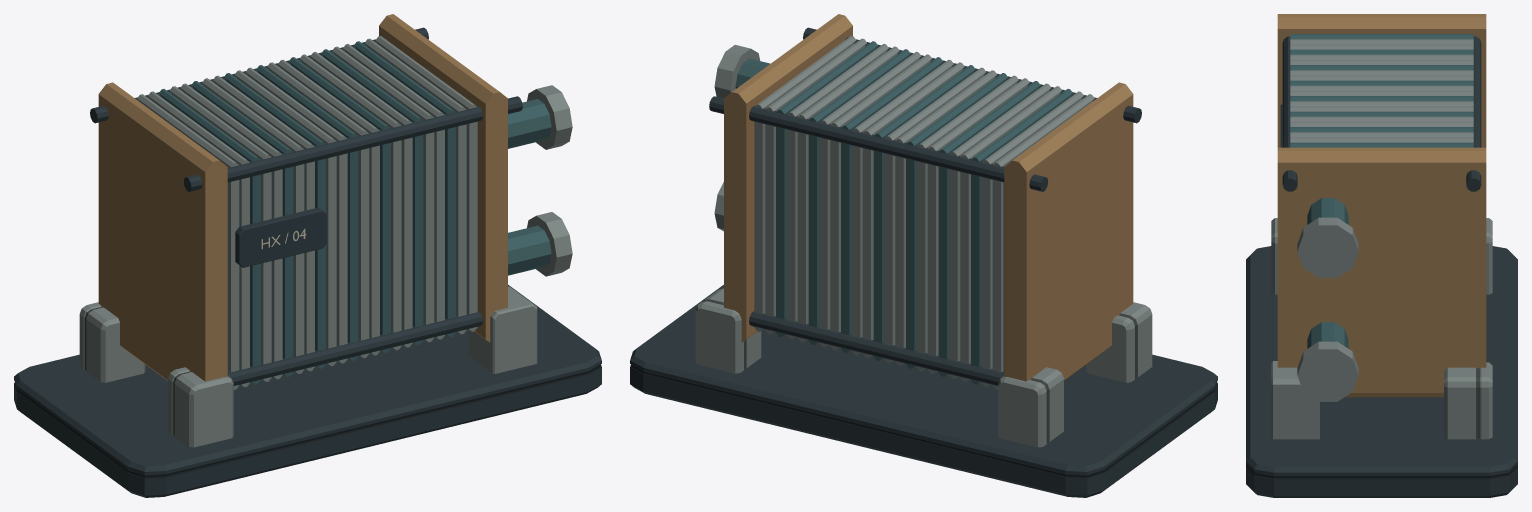
File: RX-01_plate_exchanger.glb
3 views of the same model, side by side, from view 1: azimuth 30°, elevation 25°; view 2: azimuth 150°, elevation 25°; view 3: azimuth 270°, elevation 25° (orthographic). The views are drawn at different scales.
Visible parts, largest first — view 1: RX-01_plate_exchanger; view 2: RX-01_plate_exchanger; view 3: RX-01_plate_exchanger.
Boxes of the visible parts, <box> form: RX-01_plate_exchanger: <box>14,14,601,497</box>; RX-01_plate_exchanger: <box>630,14,1217,497</box>; RX-01_plate_exchanger: <box>1246,14,1517,497</box>.
Size of the model in its own units: 2.96 by 1.86 by 1.51.
